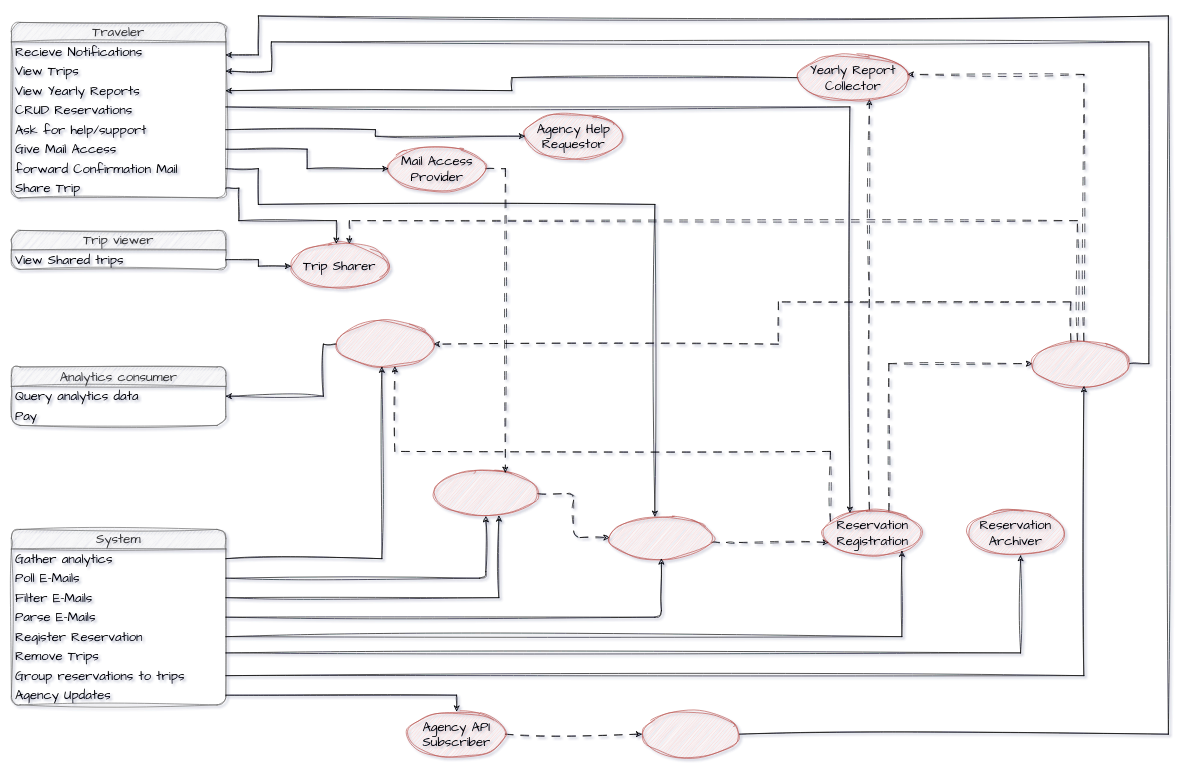
The diagram is 1189 pixels wide and 772 high, and some of its shapes have lost their labels. The shapes that lost their labels are listed below. From the top down, each one's centre as x and y in pixels, then its label:
[385,344]: Analytics Capture
[1080,363]: Trip Bundler
[485,493]: Mail Reciever and filterer
[661,537]: Mail Parser
[690,734]: Notification Sender
